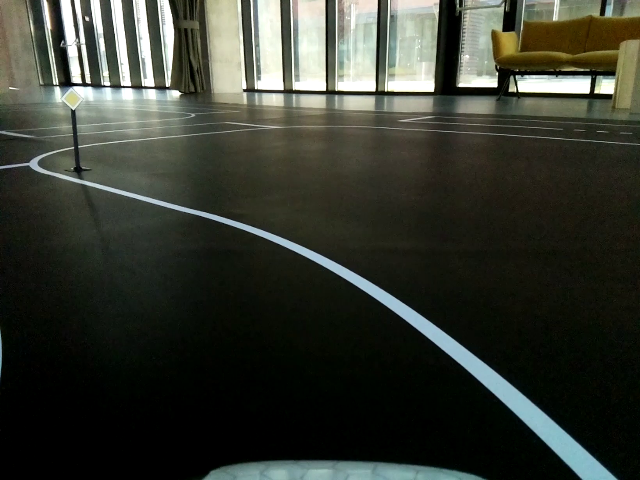priority: (61, 87, 83, 110)
